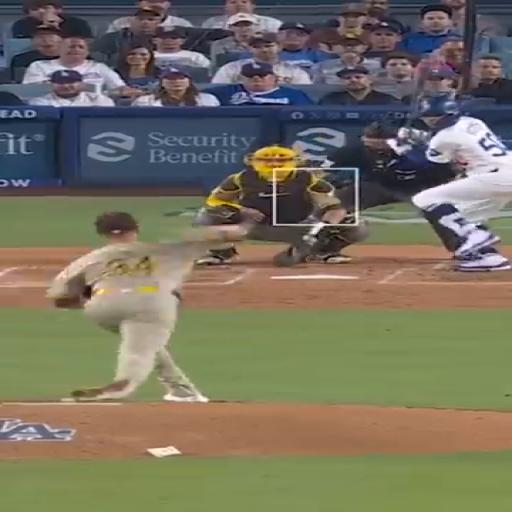bat: (407, 65, 429, 141)
